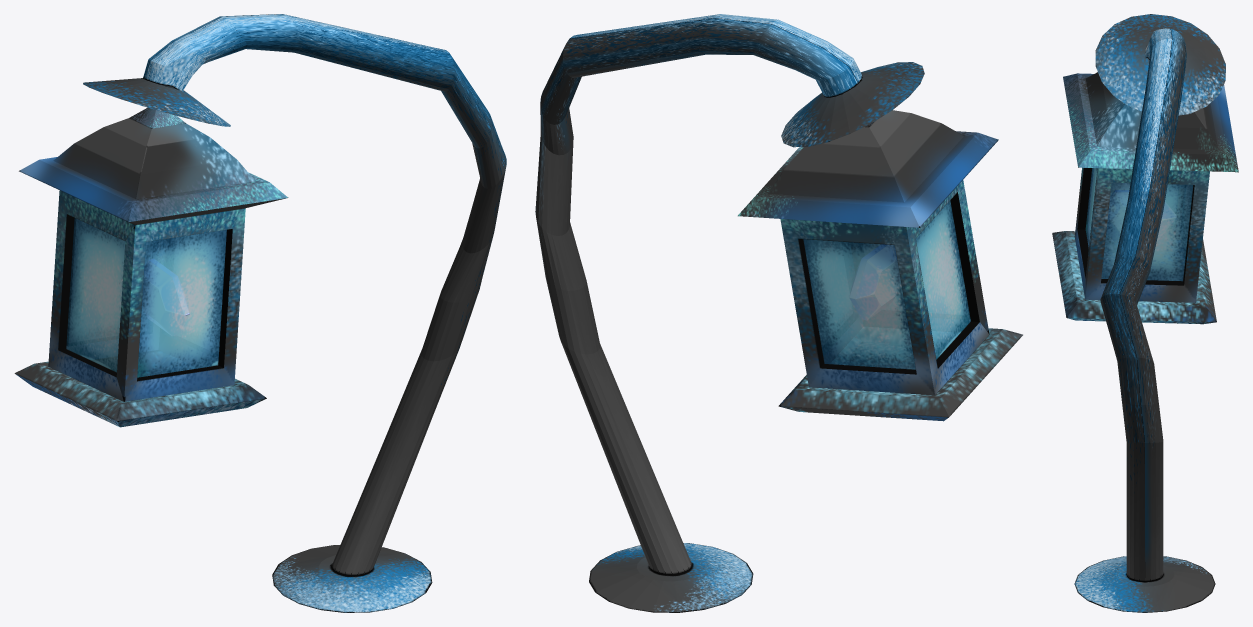
Rendered from tester.fbx.
The picture shows the model from 3 angles, left to right: view 1: azimuth 30°, elevation 25°; view 2: azimuth 150°, elevation 25°; view 3: azimuth 270°, elevation 25°; orthographic projection. The views are drawn at different scales.
Parts seen in each view (by area): view 1: polySurface22; view 2: polySurface22; view 3: polySurface22.
Boxes of the visible parts, x1,y1,x2,y2 form: polySurface22: [14, 14, 506, 612]; polySurface22: [535, 14, 1022, 612]; polySurface22: [1052, 14, 1238, 612].
Bounding box in the file's own units: 1.9 × 2.38 × 0.8105.
